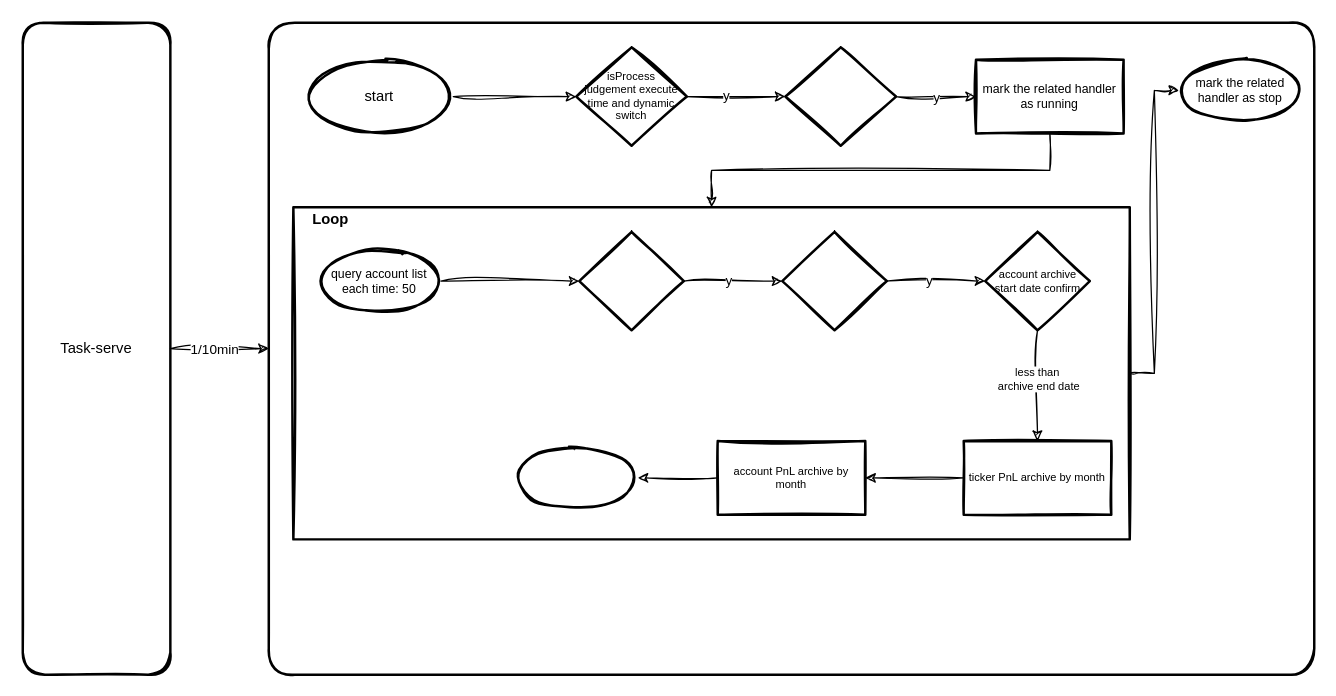
This 1336x696 diagram has some shape labels left out. The shapes that lost their labels are listed below. From the top down, each one's centre as x and y in pixels, then its label:
point 840,96: handler status judgement
point 630,280: isProcess and account list is not null
point 833,280: filter cur sharding need handle the data
point 575,477: update account archive date
